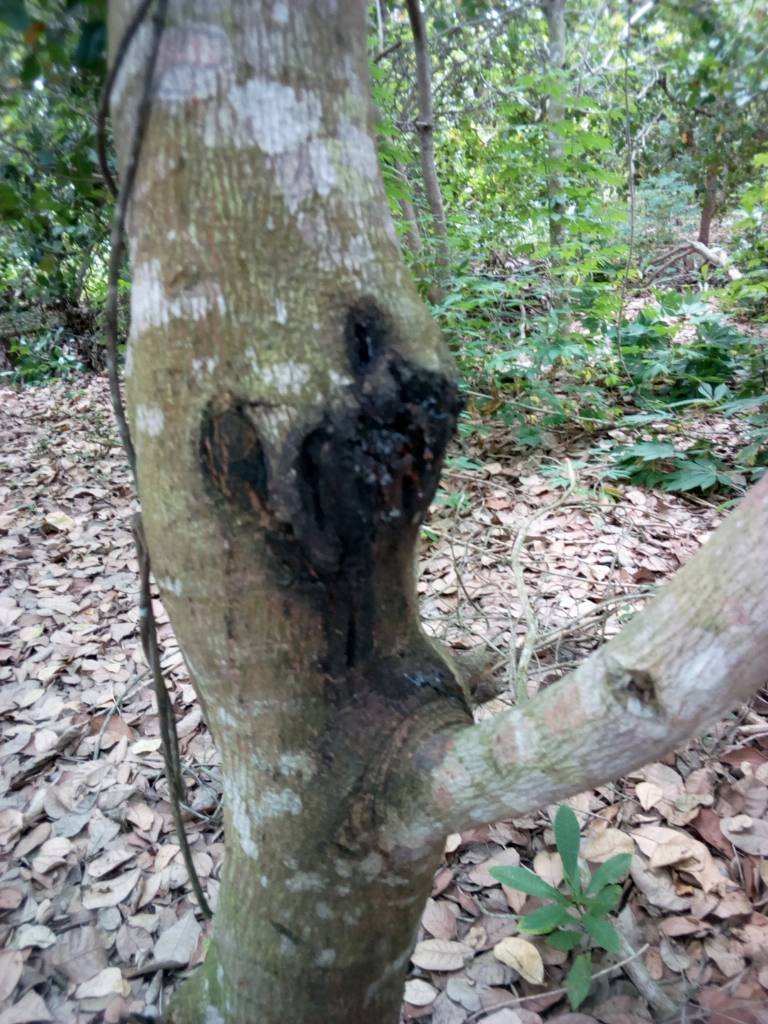Mecocorynus longiceps: (272, 280, 505, 613)
